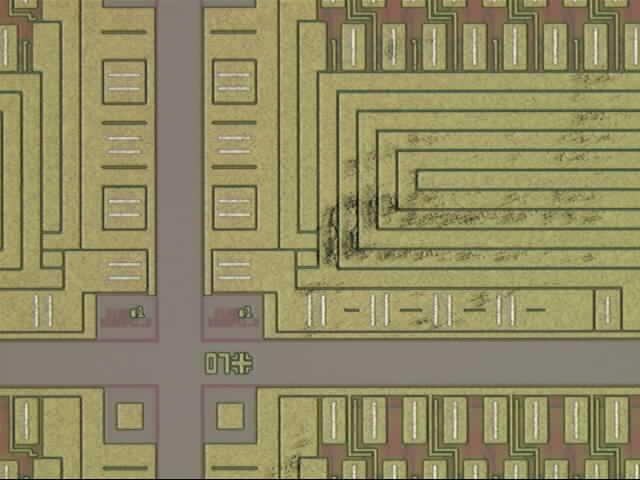SCRATCH: (265, 43, 632, 480)
